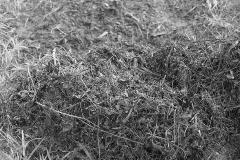organic: (88, 60, 160, 112), (0, 25, 26, 63)
